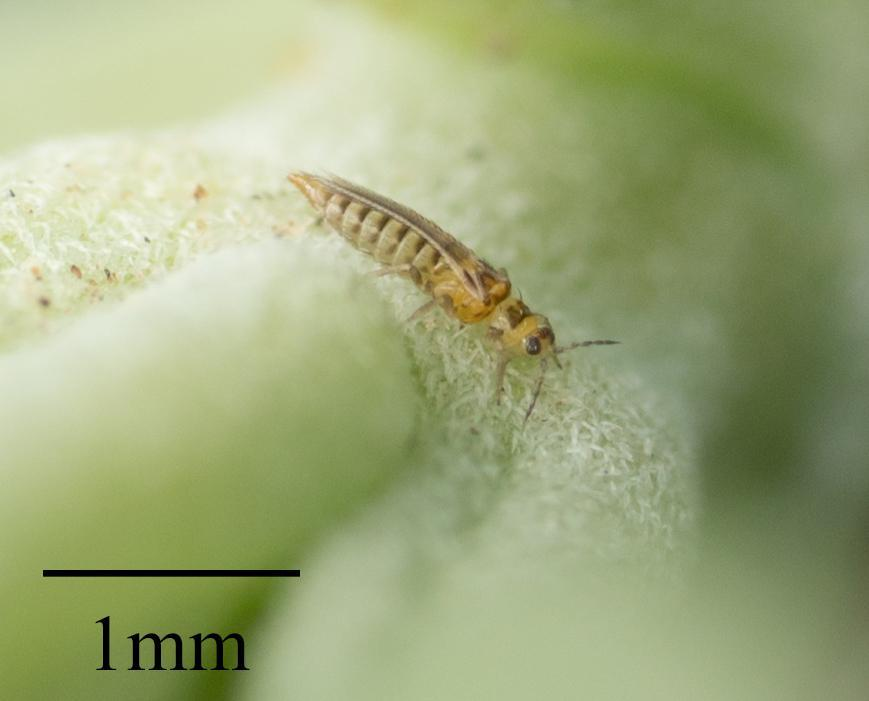tiny_pests: (269, 143, 655, 446)
